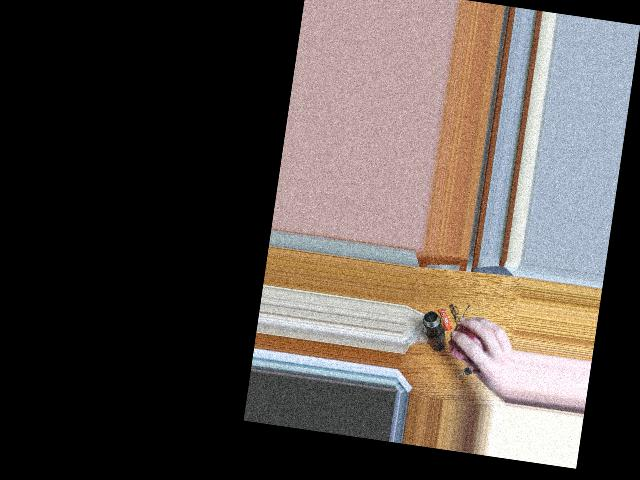onion: (453, 322, 493, 371)
